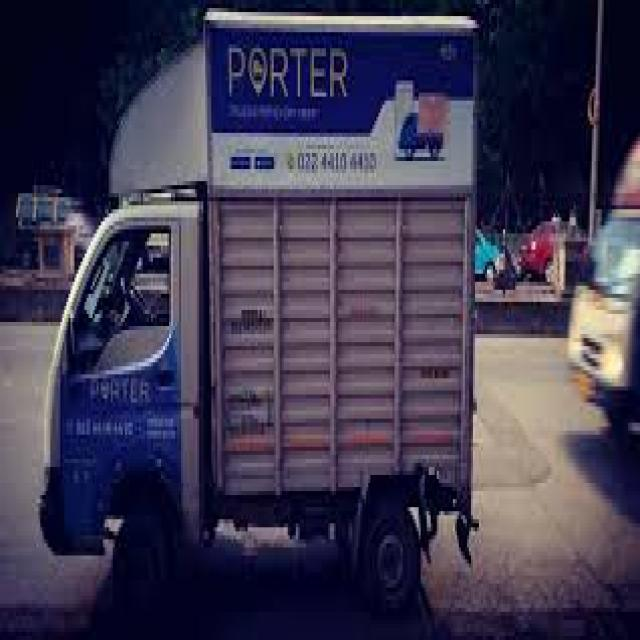Tempo: (34, 0, 481, 588)
